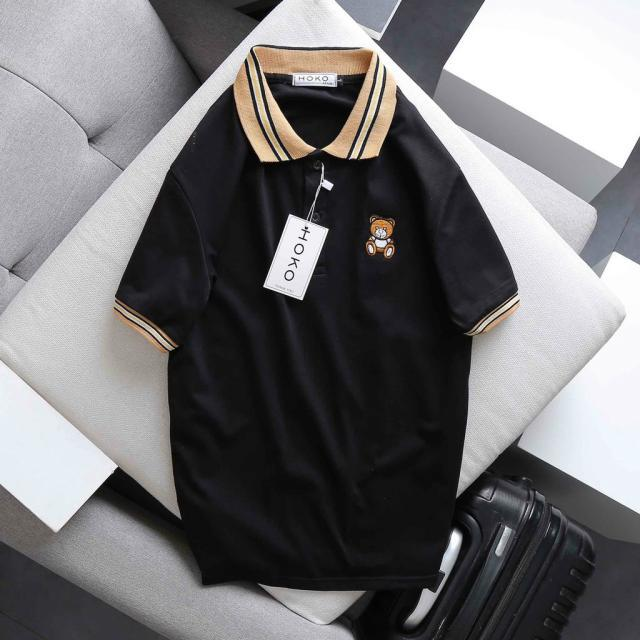Shirt: (110, 33, 530, 601)
